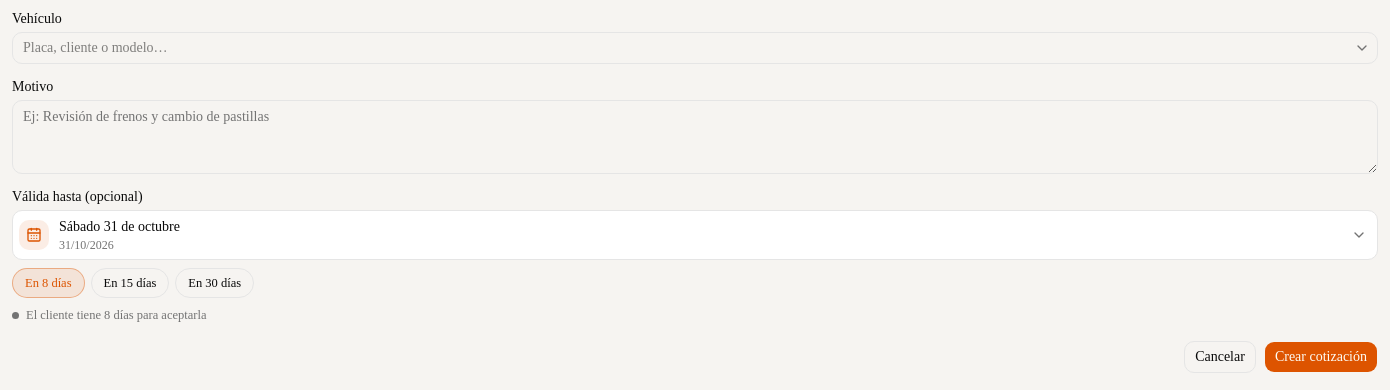
NuevaCotizacionForm › lists every vehículo by placa, cliente, and modelo once the picker is open
Click the dropdown: click(695, 48) [12,32,1378,64]
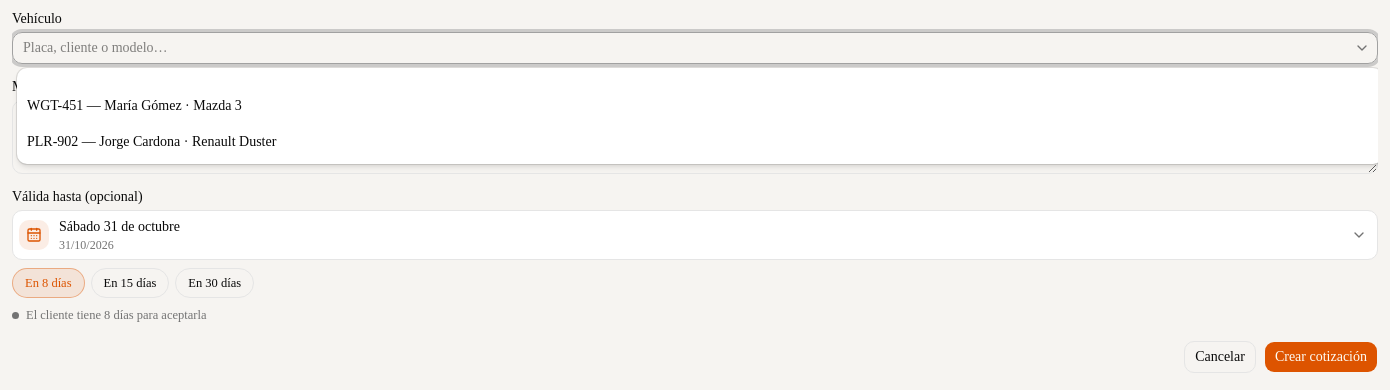
Expected: the option "WGT-451 — María Gómez · Mazda 3" is shown, [27,98,242,113]
Expected: the option "PLR-902 — Jorge Cardona · Renault Duster" is shown, [27,134,276,149]
